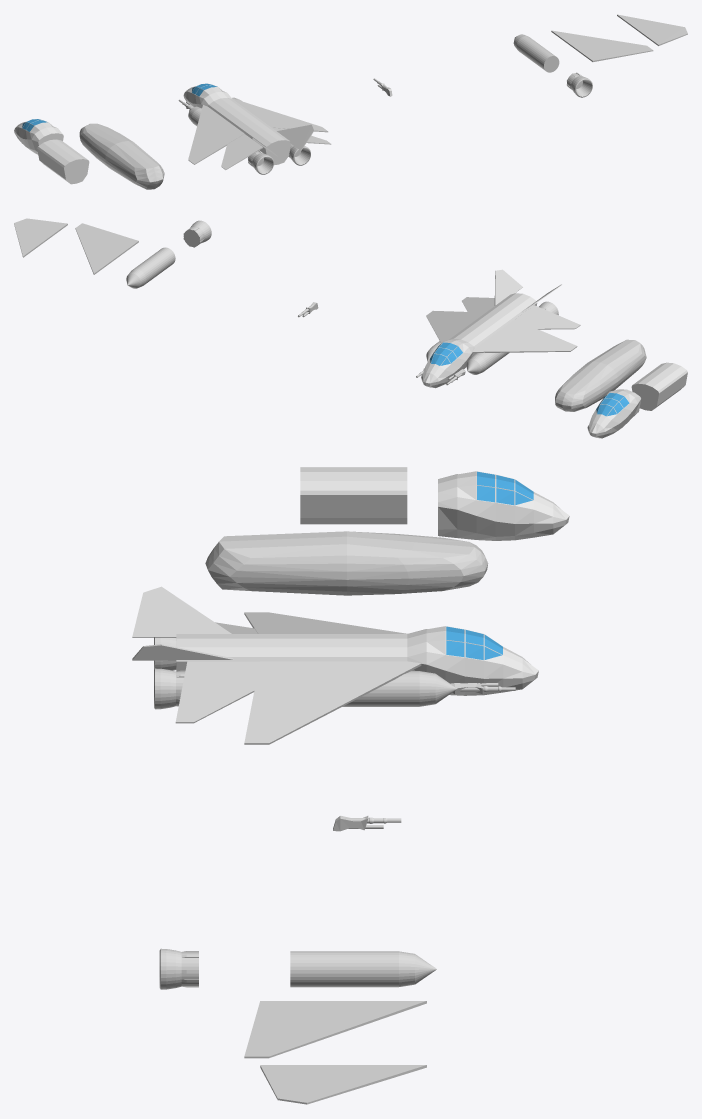
The model's file is kitbash.dae.
3 views of the same model, one above another, from view 1: azimuth 30°, elevation 25°; view 2: azimuth 150°, elevation 25°; view 3: azimuth 270°, elevation 25° (orthographic). The views are drawn at different scales.
Visible parts, largest first — view 1: hull.001, hull.002, wing.004, hull, wing, cockpit, wing.001, Cylinder, wing.002, wing.005, cockpit.001, wing.006 (+3 smaller); view 2: hull.001, wing.004, hull.002, cockpit, hull, wing, cockpit.001, wing.001, wing.002, Cylinder, wing.005, wing.006 (+3 smaller); view 3: hull.001, wing.002, cockpit, hull, hull.002, wing, cockpit.001, Cylinder, wing.001, wing.003, wing.007, Cylinder.001 (+4 smaller).
Part boxes in pixels (bbox=[...]): hull.001: bbox=[79, 123, 164, 189]; hull.002: bbox=[208, 98, 290, 165]; wing.004: bbox=[188, 105, 244, 164]; hull: bbox=[37, 139, 89, 184]; wing: bbox=[551, 30, 653, 61]; cockpit: bbox=[14, 119, 63, 154]; wing.001: bbox=[617, 14, 687, 45]; Cylinder: bbox=[513, 34, 559, 72]; wing.002: bbox=[232, 98, 328, 132]; wing.005: bbox=[221, 134, 262, 169]; cockpit.001: bbox=[183, 83, 231, 108]; wing.006: bbox=[277, 124, 314, 150]; hull.001: bbox=[555, 339, 646, 411]; wing.004: bbox=[472, 319, 577, 353]; hull.002: bbox=[449, 293, 537, 354]; cockpit: bbox=[587, 389, 641, 438]; hull: bbox=[631, 362, 687, 410]; wing: bbox=[75, 223, 138, 274]; cockpit.001: bbox=[421, 339, 474, 388]; wing.001: bbox=[14, 218, 67, 257]; wing.002: bbox=[426, 310, 485, 342]; Cylinder: bbox=[126, 247, 175, 288]; wing.005: bbox=[515, 305, 580, 329]; wing.006: bbox=[494, 269, 522, 305]; hull.001: bbox=[205, 531, 488, 595]; wing.002: bbox=[244, 661, 421, 744]; cockpit: bbox=[438, 471, 569, 540]; hull: bbox=[300, 467, 407, 524]; hull.002: bbox=[176, 634, 407, 671]; wing: bbox=[244, 1001, 426, 1058]; cockpit.001: bbox=[407, 626, 538, 695]; Cylinder: bbox=[290, 951, 436, 987]; wing.001: bbox=[260, 1065, 426, 1104]; wing.003: bbox=[175, 661, 259, 723]; wing.007: bbox=[132, 586, 231, 637]; Cylinder.001: bbox=[342, 671, 457, 706].
Bounding box in the file's own units: 53.38 × 16.23 × 3.42.
